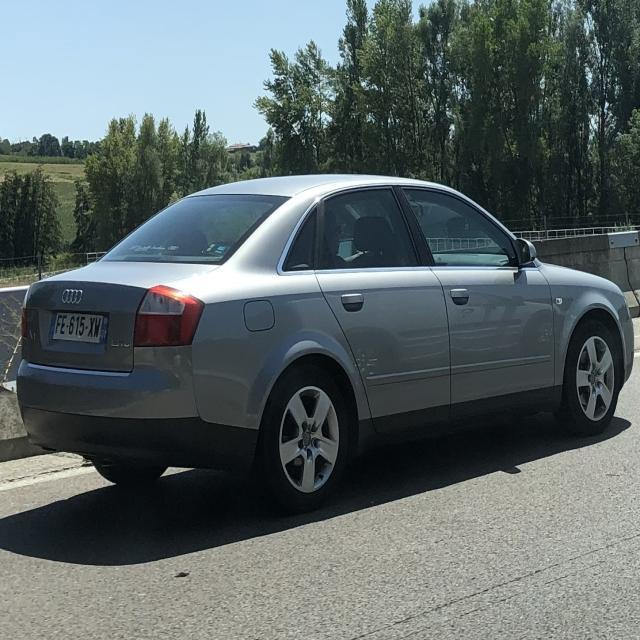Autre: (43, 305, 110, 342)
